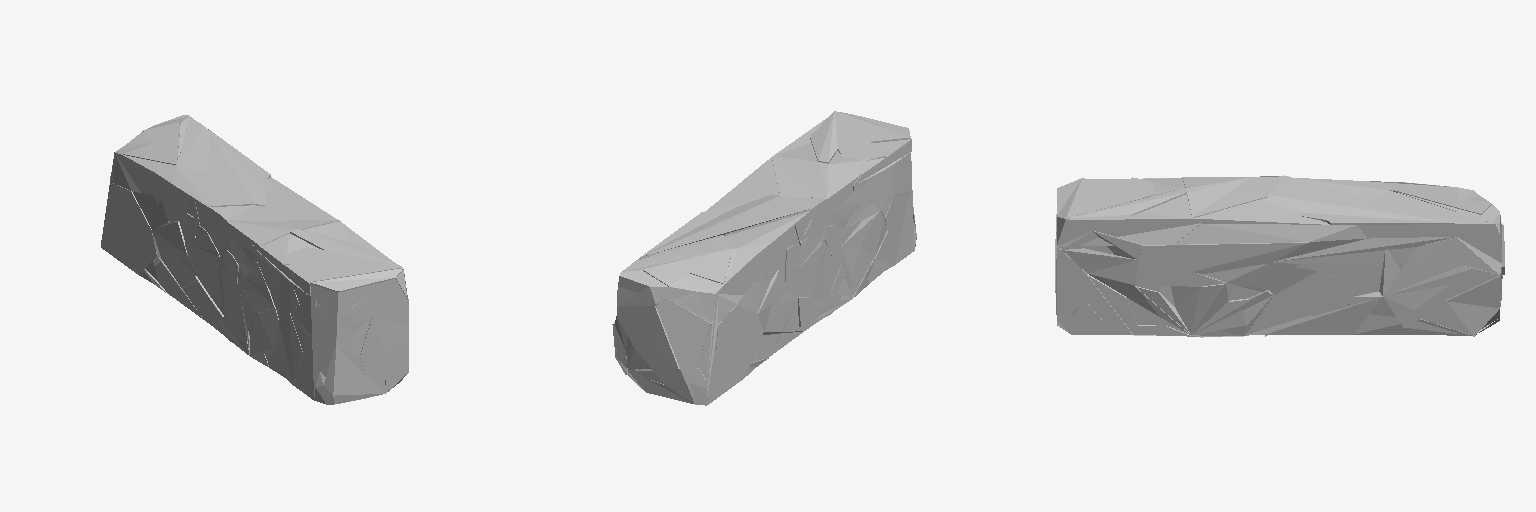
File: Sandstone_Wall_Low_Poly_V1.obj
3 views of the same model, side by side, from view 1: azimuth 30°, elevation 25°; view 2: azimuth 150°, elevation 25°; view 3: azimuth 270°, elevation 25° (orthographic).
Parts seen in each view (by area): view 1: Cube_Cube.001; view 2: Cube_Cube.001; view 3: Cube_Cube.001.
Boxes of the visible parts, <box> form: Cube_Cube.001: <box>101,115,408,404</box>; Cube_Cube.001: <box>612,111,916,405</box>; Cube_Cube.001: <box>1055,175,1504,337</box>.
Size of the model in its own units: 1.57 by 1.96 by 6.44.